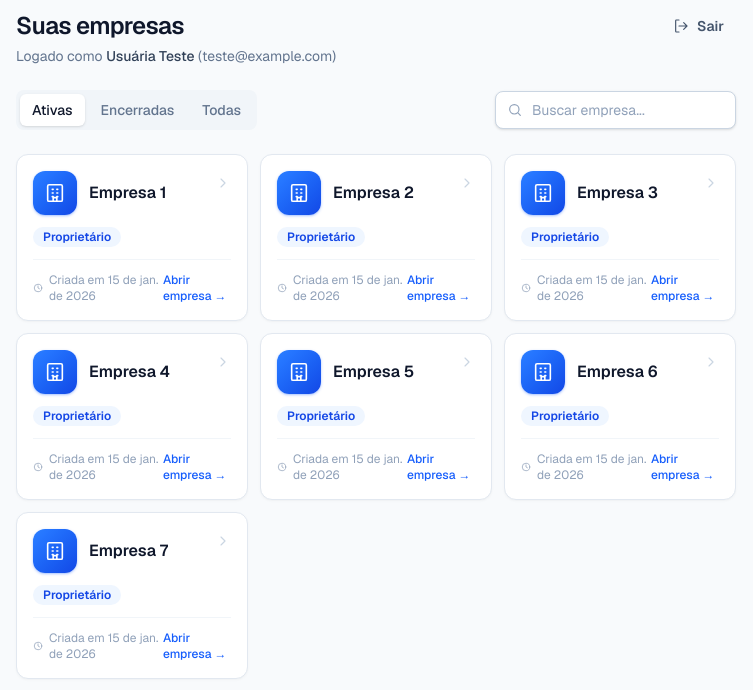
OrganizationsPage › não mostra busca com poucas empresas, mas mostra e filtra (server-side, com debounce) com mais de 6
This screenshot has width=753, height=690.
Expected: the text "Empresa 1" is shown, [89,181,166,205]
In the search field with placeholder "Buscar empresa...": (616, 110) [495,91,736,129], type "Empresa 3"
Wait 350 ms
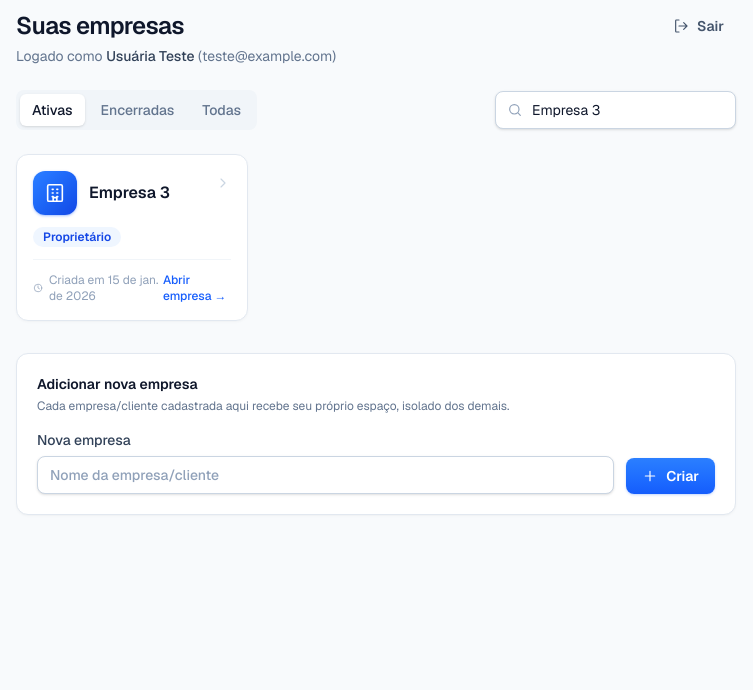
Expected: the text "Empresa 3" is shown, [89,181,170,205]
Result: the link "Empresa 1" is gone
